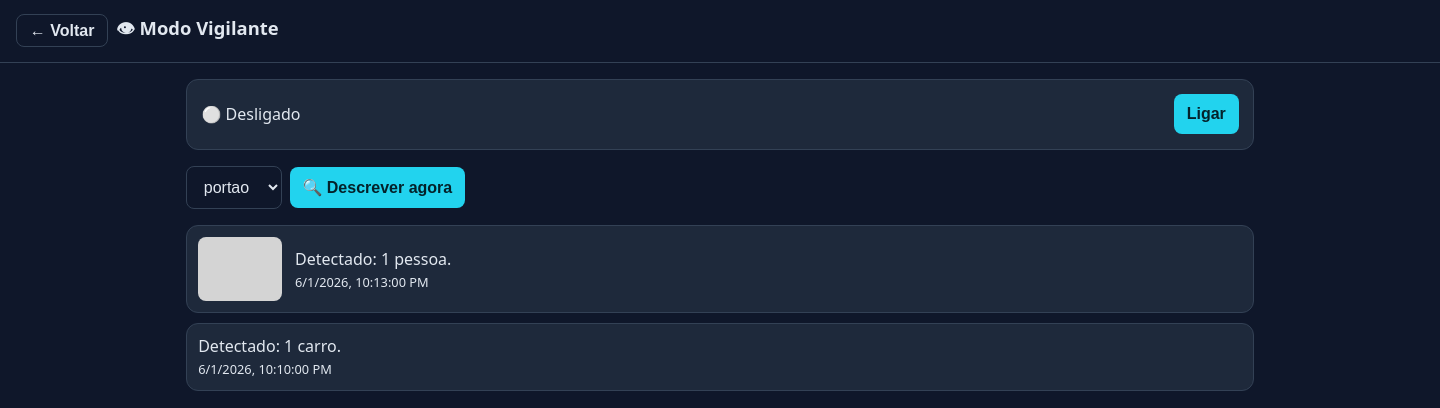
Vigilante › describes the selected camera on demand and shows the result
Select "quintal" in the dropdown named "câmera para testar" at (234, 187), box [186, 166, 282, 209]
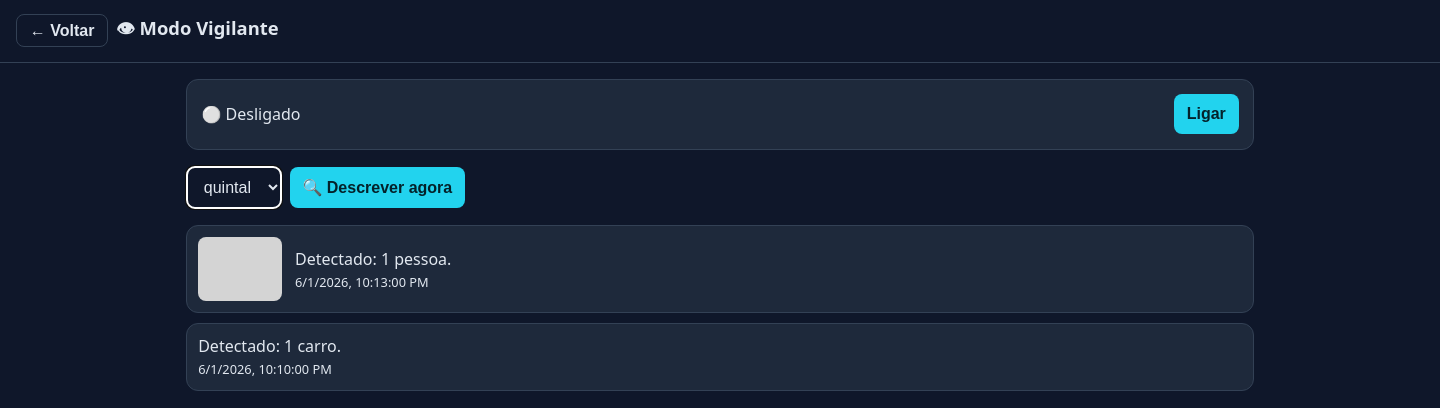
Click the button "🔍 Descrever agora" at (377, 187), box [290, 167, 465, 208]
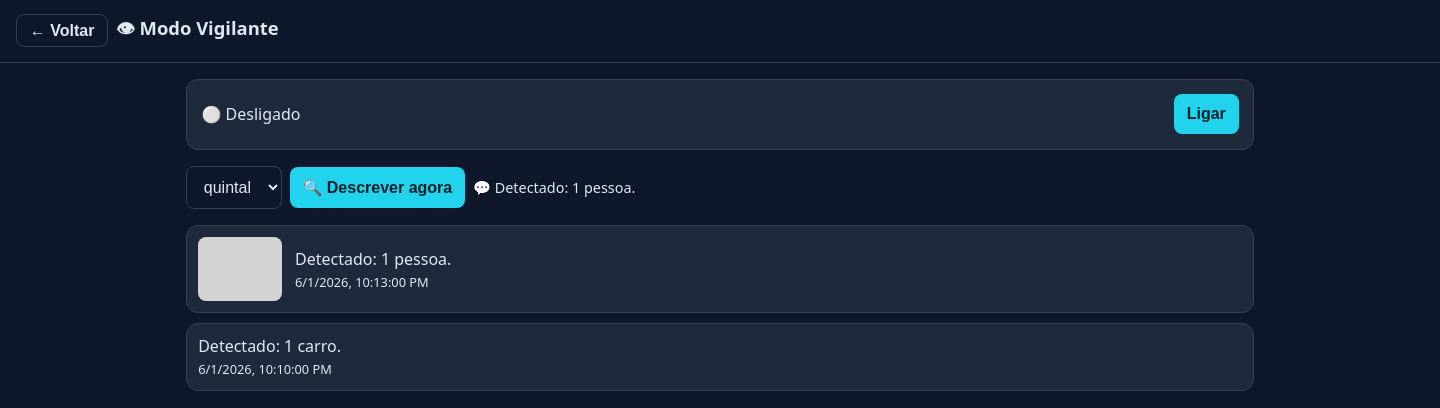
Result: the text "💬 Detectado: 1 pessoa." is shown at [473, 178, 635, 197]
